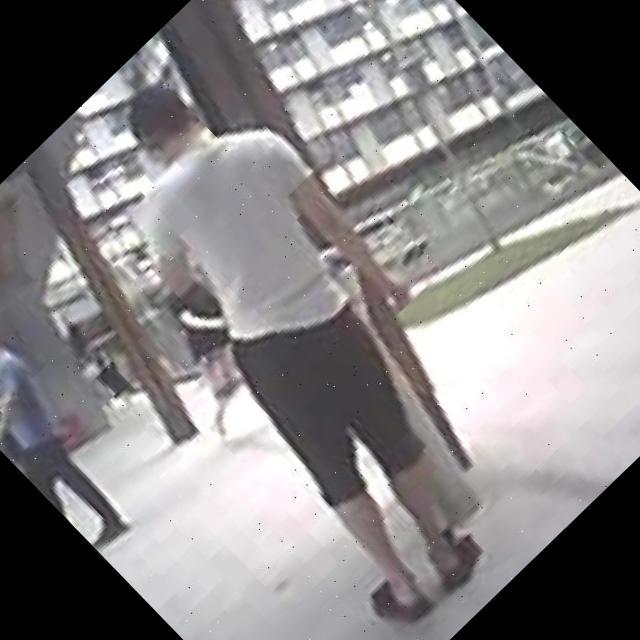person: (4, 40, 596, 640), (0, 323, 160, 556), (136, 264, 276, 406), (60, 316, 152, 410), (0, 351, 16, 430)
